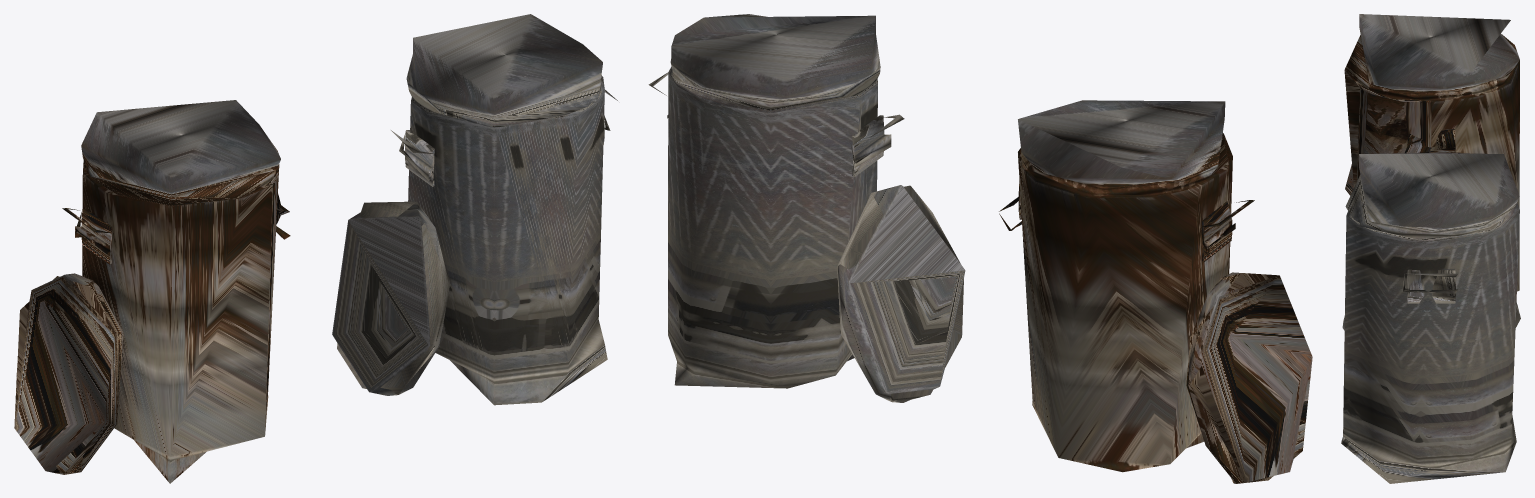
File: metal_trash_can_opt.gltf
The picture shows the model from 3 angles, left to right: view 1: azimuth 30°, elevation 25°; view 2: azimuth 150°, elevation 25°; view 3: azimuth 270°, elevation 25°; orthographic projection. The views are drawn at different scales.
Parts seen in each view (by area): view 1: metal_trash_can, metal_trash_can_rust, metal_trash_can_lid, metal_trash_can_rust_lid; view 2: metal_trash_can, metal_trash_can_rust, metal_trash_can_lid, metal_trash_can_rust_lid; view 3: metal_trash_can, metal_trash_can_rust, metal_trash_can_handle_right.
Part boxes in pixels (bbox=[...]): metal_trash_can: bbox=[405, 14, 607, 405]; metal_trash_can_rust: bbox=[75, 100, 289, 483]; metal_trash_can_lid: bbox=[332, 201, 449, 395]; metal_trash_can_rust_lid: bbox=[14, 273, 123, 474]; metal_trash_can: bbox=[668, 14, 891, 388]; metal_trash_can_rust: bbox=[1018, 100, 1232, 472]; metal_trash_can_lid: bbox=[837, 185, 965, 402]; metal_trash_can_rust_lid: bbox=[1186, 272, 1312, 483]; metal_trash_can: bbox=[1341, 152, 1519, 483]; metal_trash_can_rust: bbox=[1344, 14, 1519, 291]; metal_trash_can_handle_right: bbox=[1403, 273, 1458, 293].
Size of the model in its own units: 1.77 by 0.9062 by 0.5412.
Materials: 2 (2 with a texture image).
